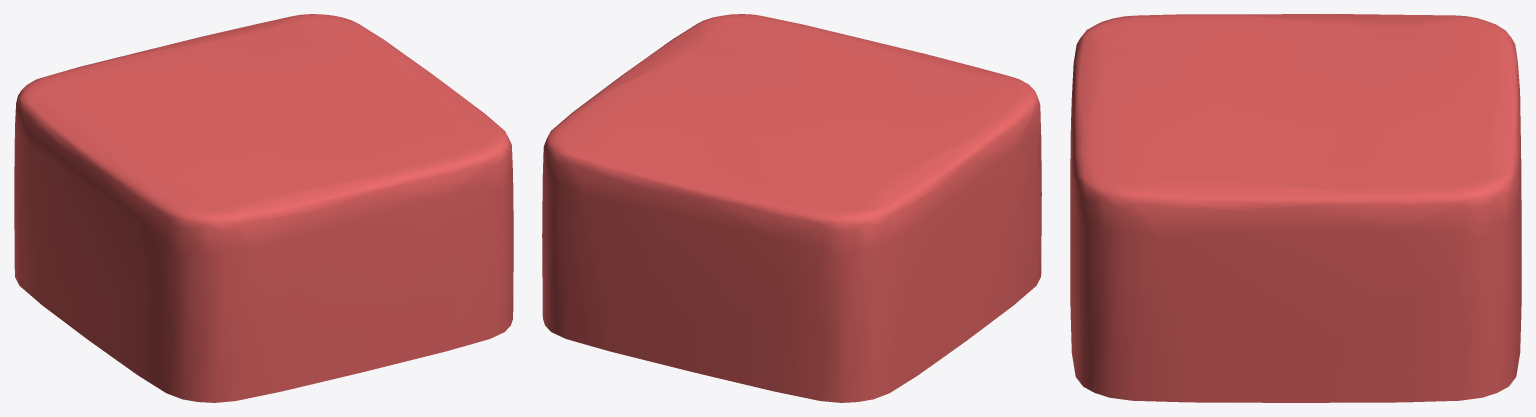
File: lavaDing_05.fbx
3 views of the same model, side by side, from view 1: azimuth 30°, elevation 25°; view 2: azimuth 150°, elevation 25°; view 3: azimuth 270°, elevation 25° (orthographic). The views are drawn at different scales.
Parts seen in each view (by area): view 1: Cube.016; view 2: Cube.016; view 3: Cube.016.
Boxes of the visible parts, left/top/right/bottom form: Cube.016: left=14, top=14, right=513, bottom=402; Cube.016: left=542, top=14, right=1041, bottom=402; Cube.016: left=1070, top=14, right=1521, bottom=402.
Bounding box in the file's own units: 200 × 99.99 × 200.
